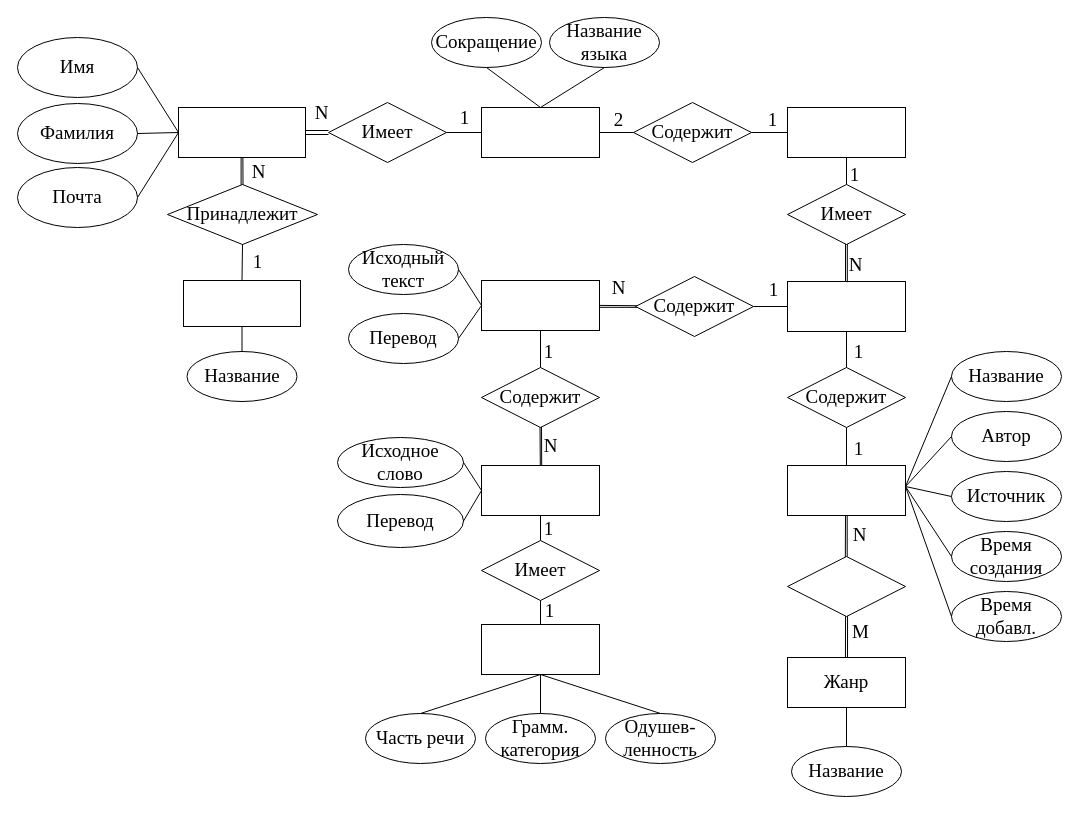
Image size: 1079x814. Some labels were removed from this diagram. The centre of each missing label's shape, as x and y in pixels:
Включает: pixel 846 586
Метаразметка: pixel 846 490
Морфологич. аннотация: pixel 540 649
Пользователь: pixel 242 132
Предложение: pixel 540 305
Страна: pixel 241 303
Текст: pixel 846 306
Токен: pixel 540 490
Язык: pixel 540 132
Языковая пара: pixel 846 132
